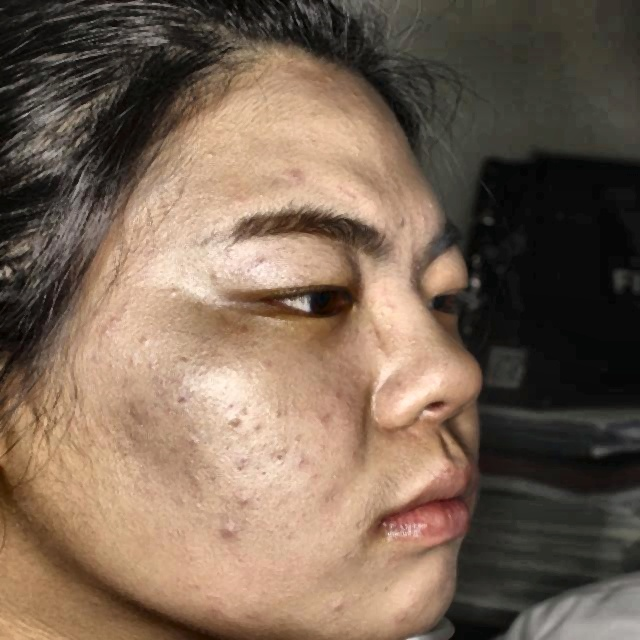pustule: (218, 405, 245, 438), (220, 518, 236, 552), (284, 163, 301, 188), (295, 449, 309, 475)
